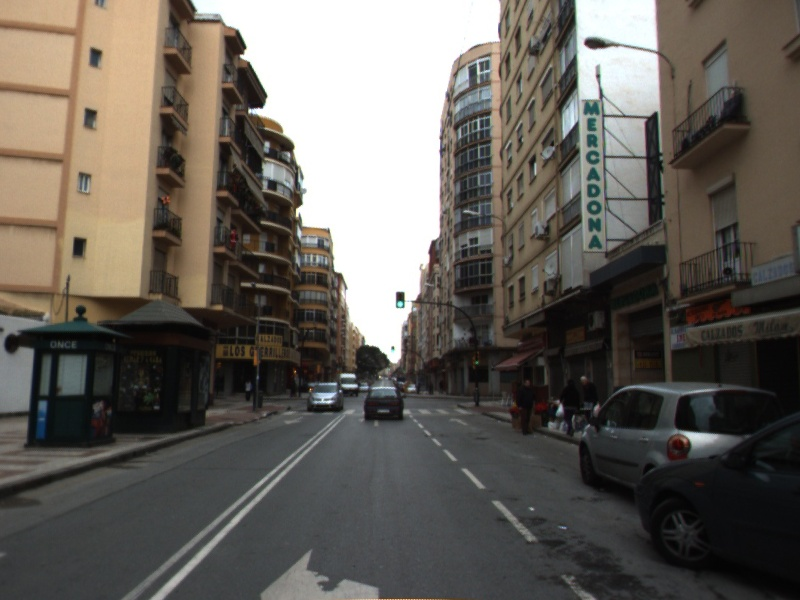LEFT: (257, 546, 379, 600)
STRAIGHT: (447, 416, 469, 427)
